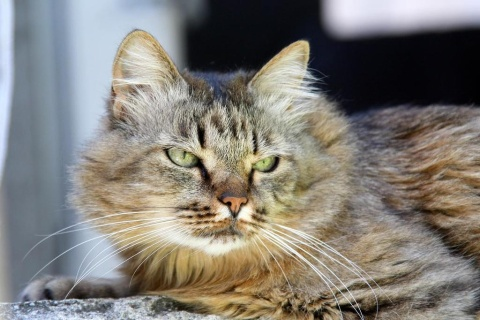Cat: (19, 25, 479, 320)
